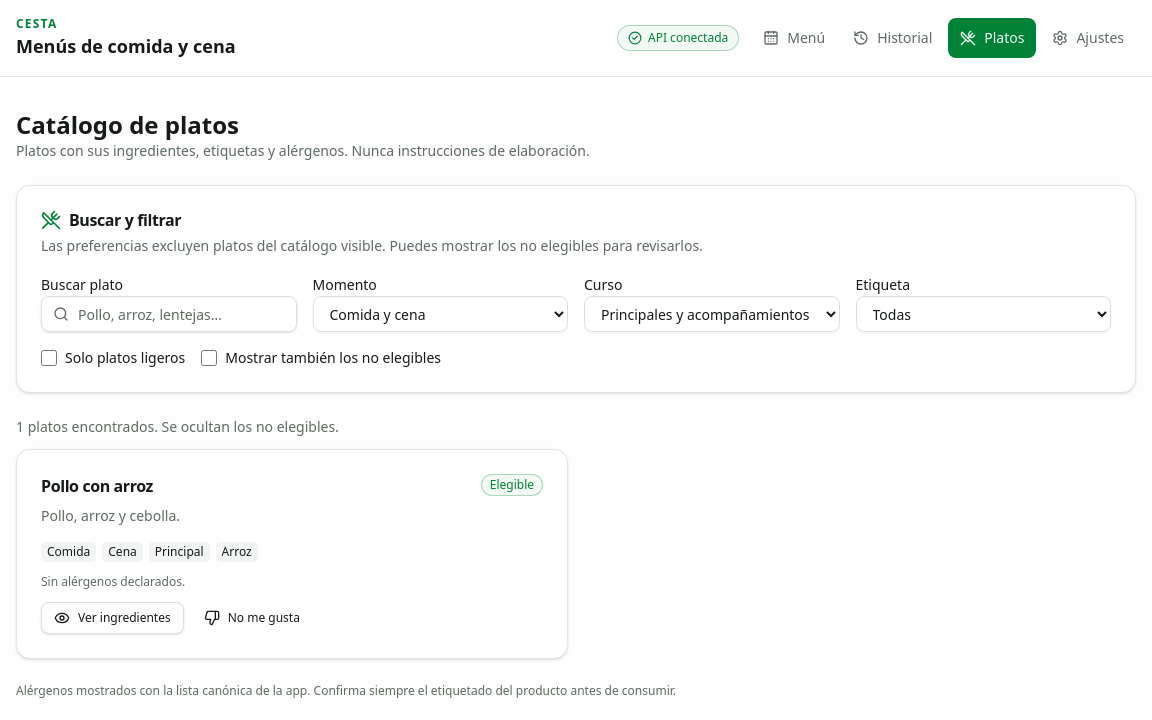
Test case: DishesPage › muestra el coste del plato con las personas del perfil
Click the button "Ver ingredientes".
click(112, 618)  # box [41,602,184,634]
(page scrolled)
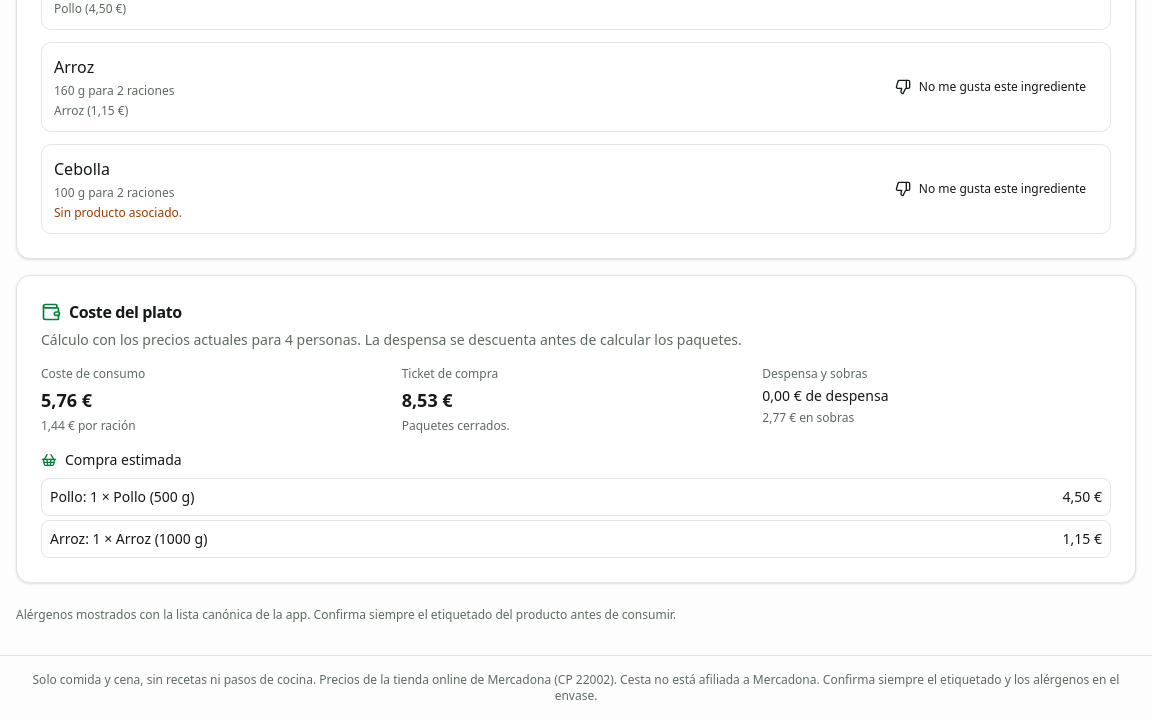
Result: the text "Coste del plato" is shown at [41,301,182,323]
Result: the text "5,76 €" is shown at [41,388,92,412]
Result: the text "1,44 € por ración" is shown at [41,417,136,434]
